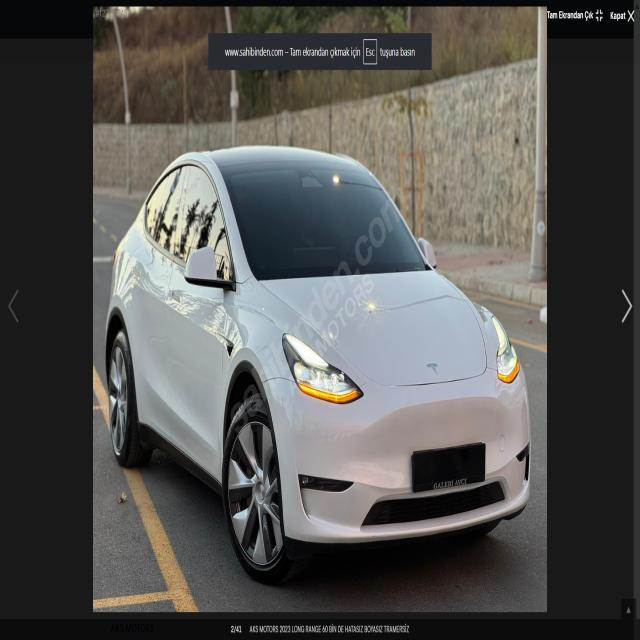tesla: (419, 351, 448, 384)
